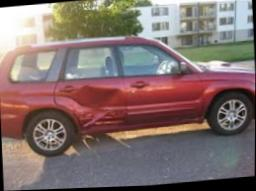Door: (55, 78, 128, 128)
